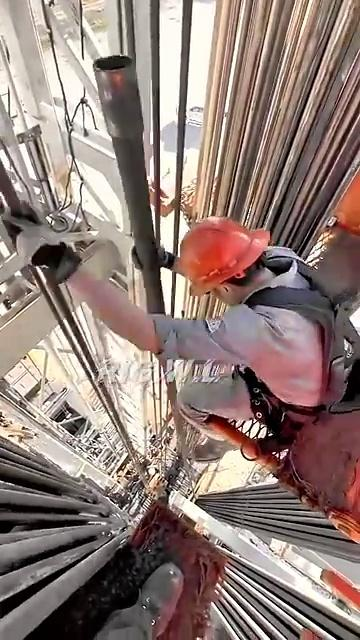gloves: (12, 233, 93, 288)
helmet: (185, 222, 262, 277)
shoes: (188, 417, 238, 488)
worker: (60, 218, 317, 502)
